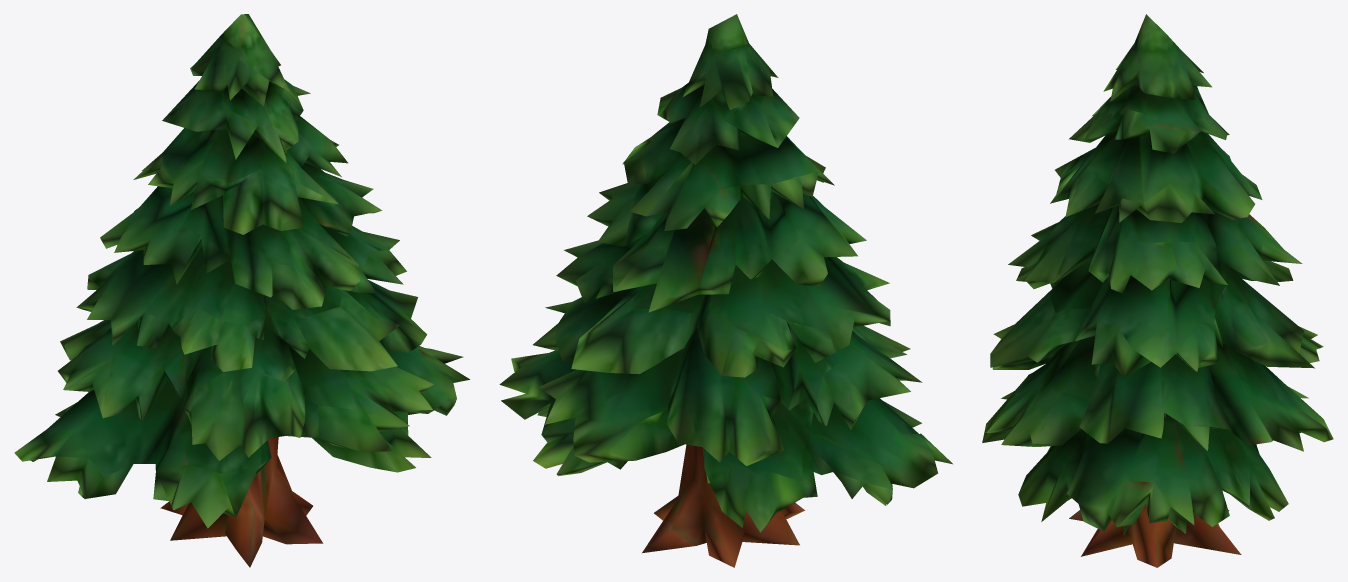
The model's file is tree-fir-wide.glb.
The picture shows the model from 3 angles, left to right: view 1: azimuth 30°, elevation 25°; view 2: azimuth 150°, elevation 25°; view 3: azimuth 270°, elevation 25°; orthographic projection.
Parts seen in each view (by area): view 1: tree-fir-wide; view 2: tree-fir-wide; view 3: tree-fir-wide.
Part boxes in pixels (left/top/right/bottom): tree-fir-wide: left=14, top=14, right=469, bottom=567; tree-fir-wide: left=499, top=14, right=952, bottom=567; tree-fir-wide: left=982, top=14, right=1333, bottom=567.
Bounding box in the file's own units: 12.25 × 13.96 × 8.56.
1 material, 1 textured.
